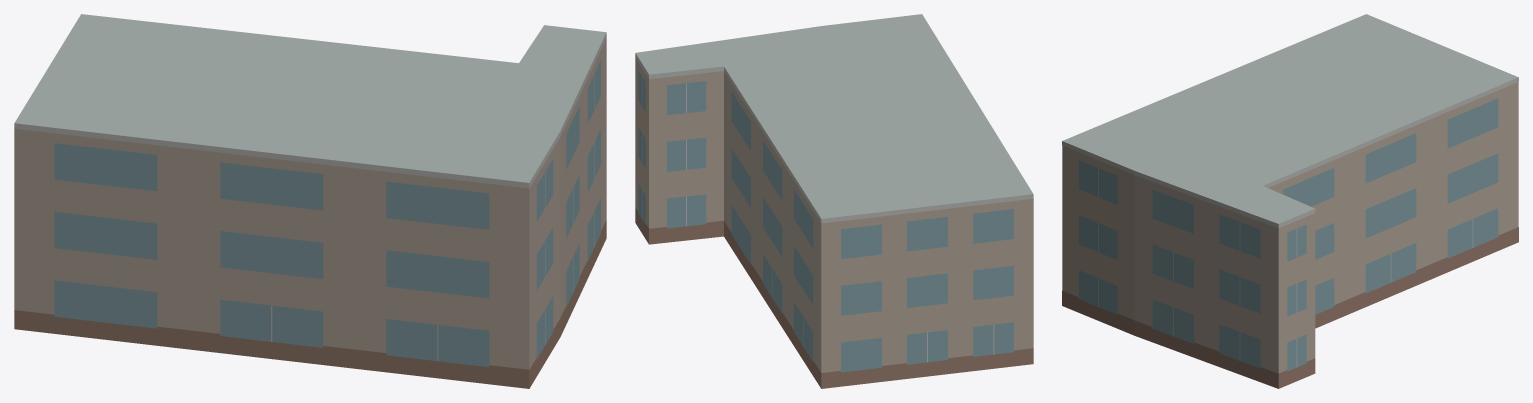
File: survey-upis-32990945.glb
3 views of the same model, side by side, from view 1: azimuth 30°, elevation 25°; view 2: azimuth 150°, elevation 25°; view 3: azimuth 270°, elevation 25° (orthographic). The views are drawn at different scales.
Visible parts, largest first — view 1: survey-upis-32990945.tmp; view 2: survey-upis-32990945.tmp; view 3: survey-upis-32990945.tmp.
Part boxes in pixels (x1,y1,x2,y2): survey-upis-32990945.tmp: (14,14,606,388); survey-upis-32990945.tmp: (635,14,1033,388); survey-upis-32990945.tmp: (1062,14,1518,388).
Bounding box in the file's own units: 25 × 9.15 × 22.97.
